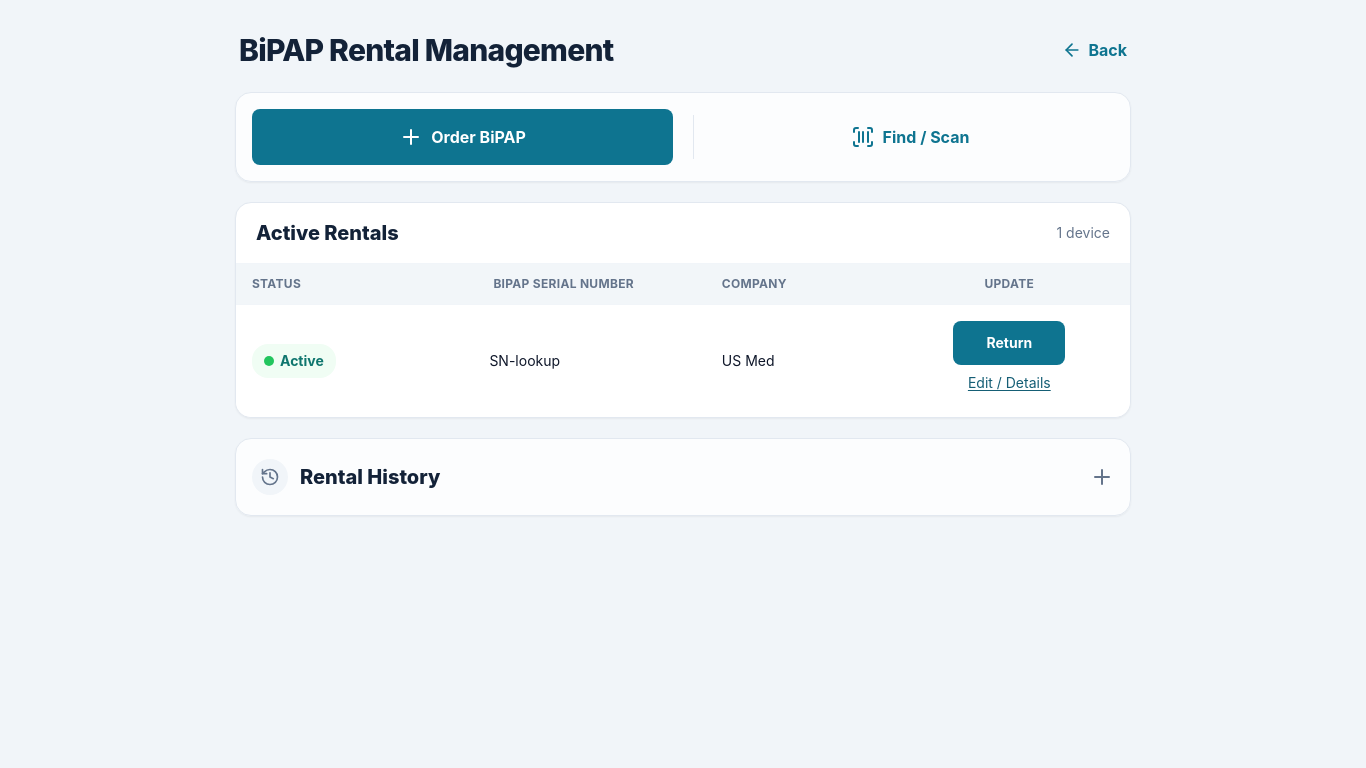
Scenario: single rental list › finds an active rental by barcode without leaving the list
Expected: the button with aria-label "+ Order BiPAP" is enabled, [252,109,673,165]
Click the button "Find / Scan".
click(904, 137)  # box [693,115,1114,159]
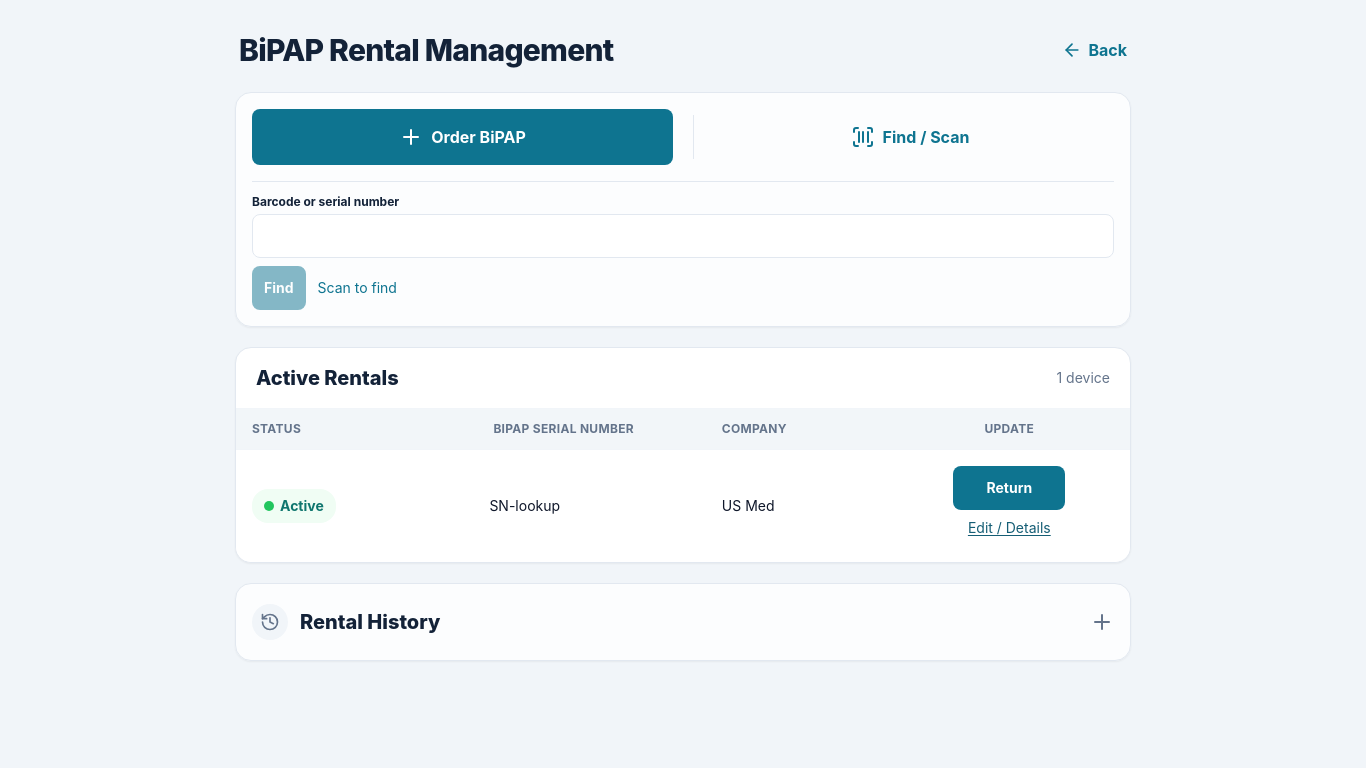
Type "SCAN-123" into the field labelled "Barcode or serial number".
click(683, 236); type("SCAN-123")  # box [252,214,1114,258]
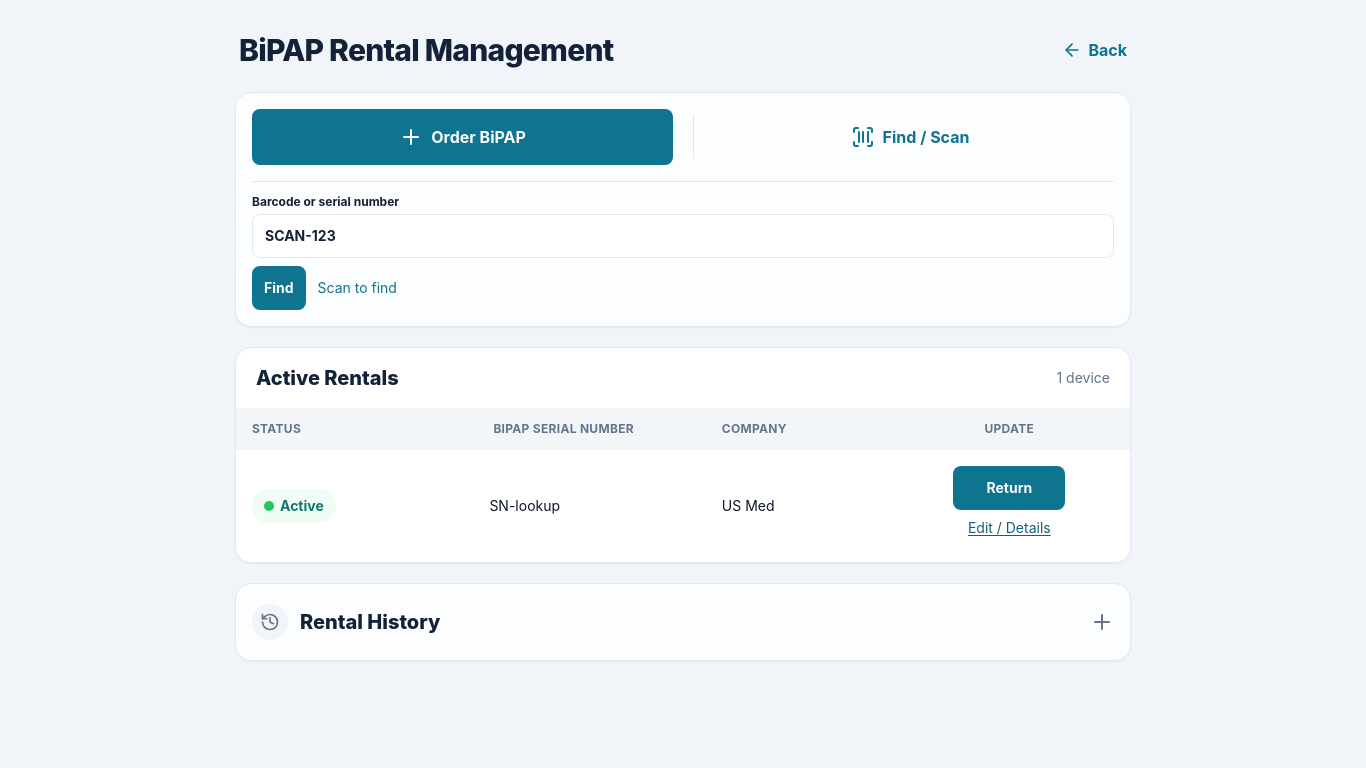
Click the button "Find".
click(279, 288)  # box [252,266,306,310]
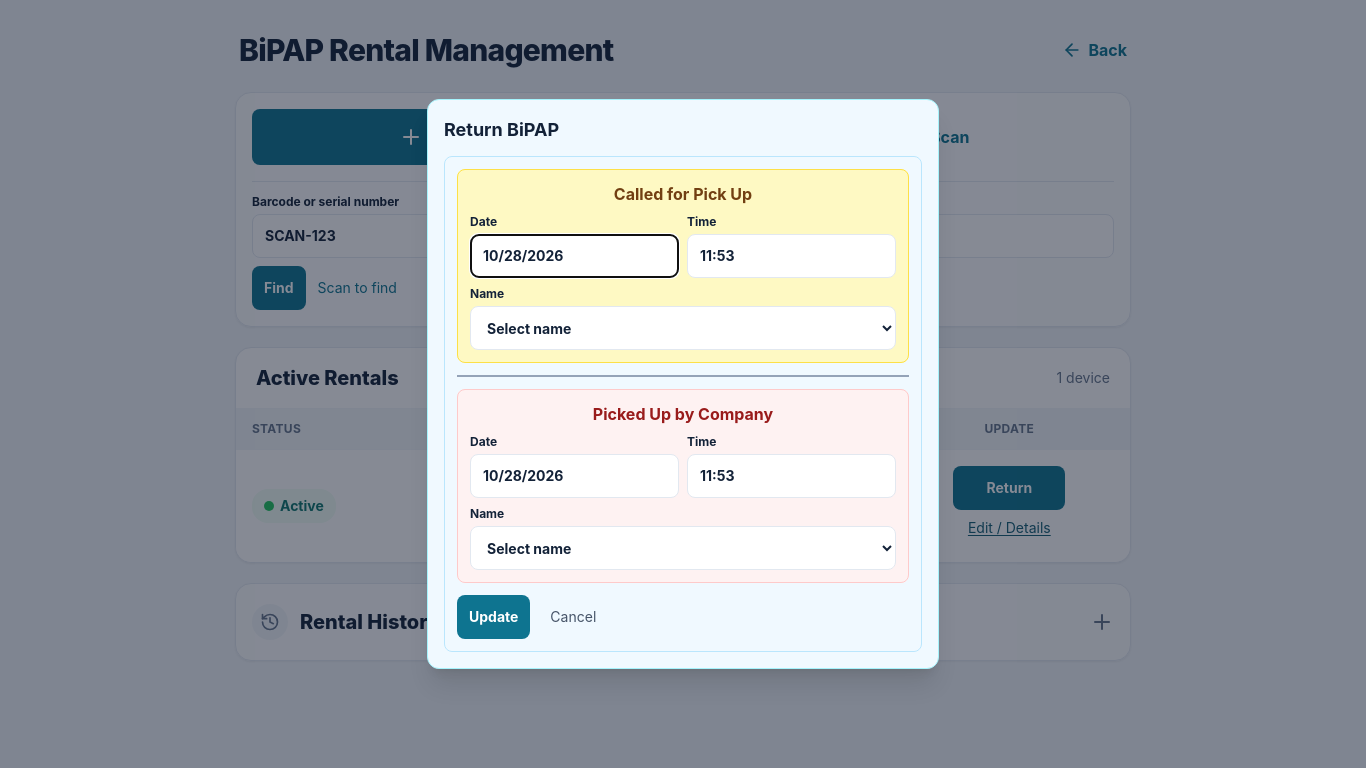
Expected: the text "SN-lookup" is shown, [477,450,710,562]
Expected: the dialog "Return BiPAP" is shown, [427,99,939,669]
